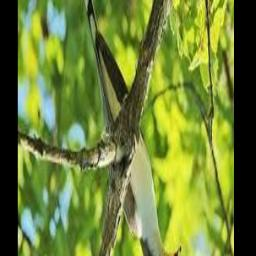Cuckoo: (75, 0, 178, 256)
